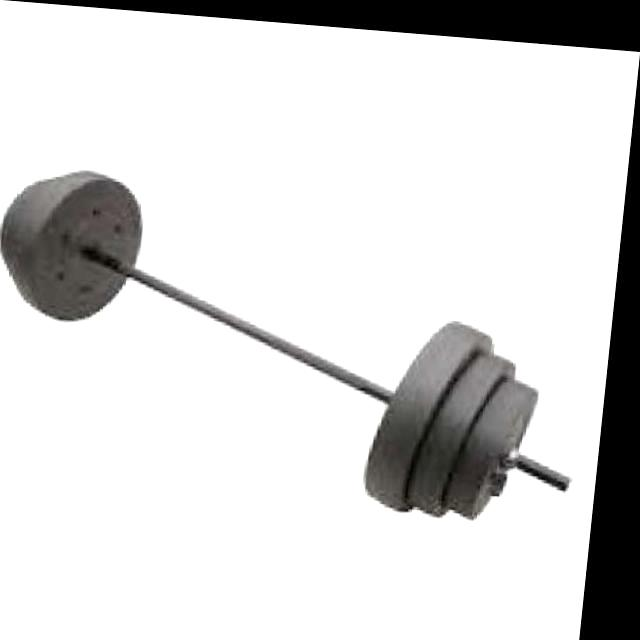barbell: (477, 370, 599, 527)
